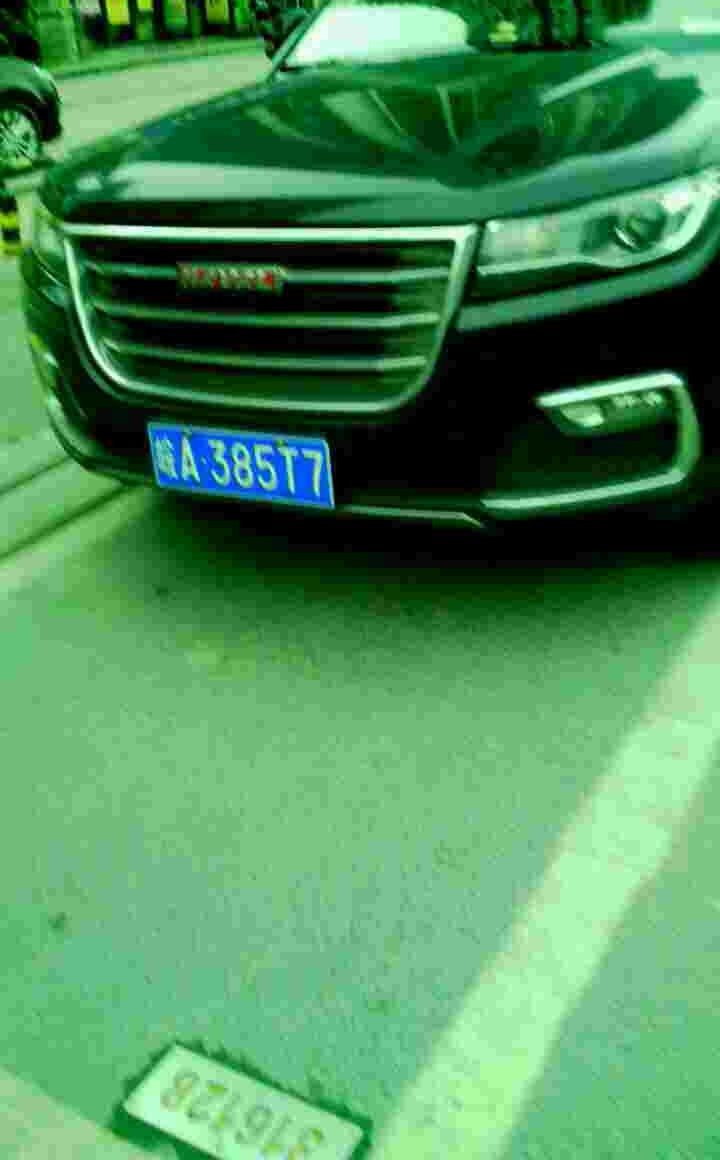license_plate: (155, 420, 332, 501)
